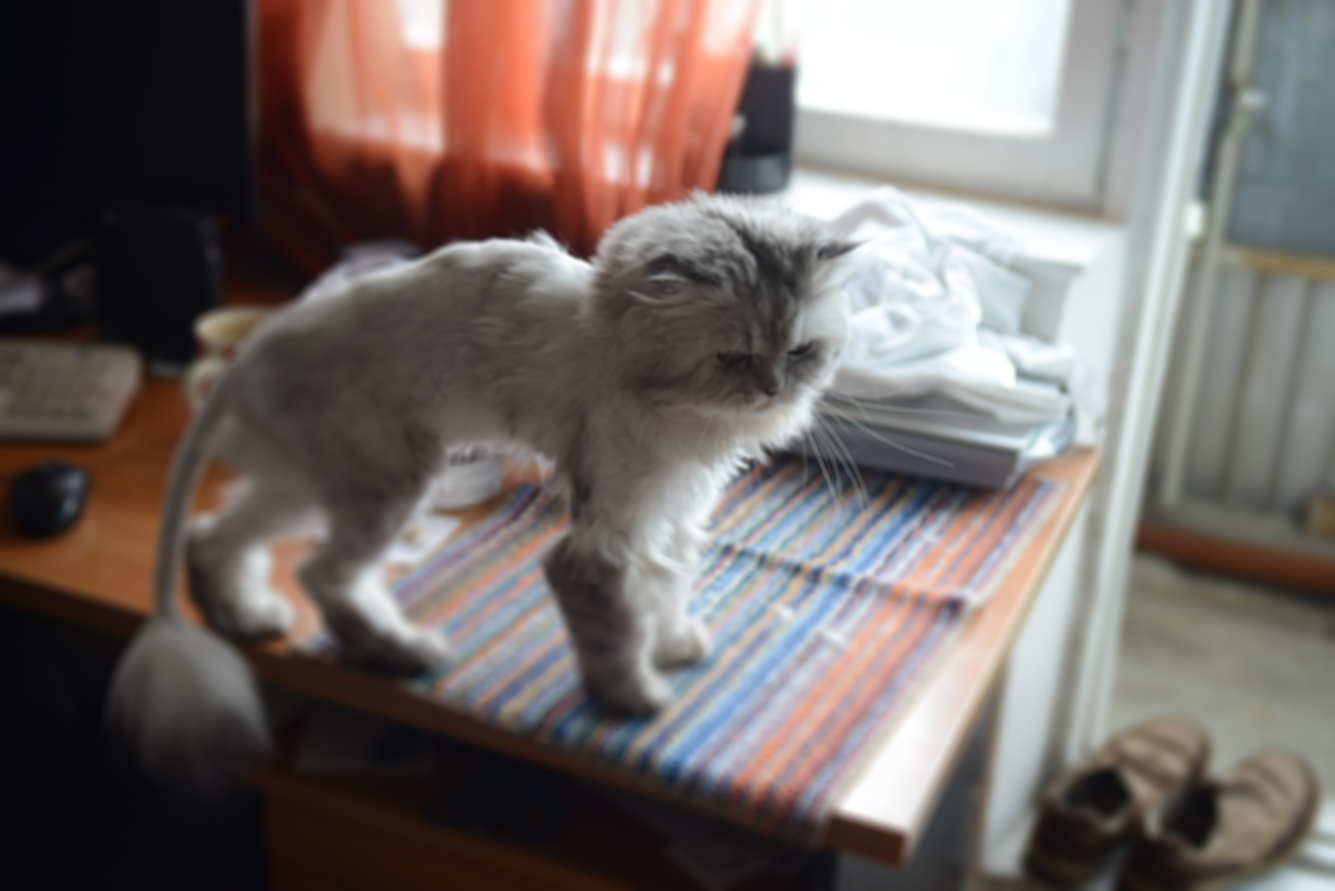cat: (161, 187, 951, 714)
